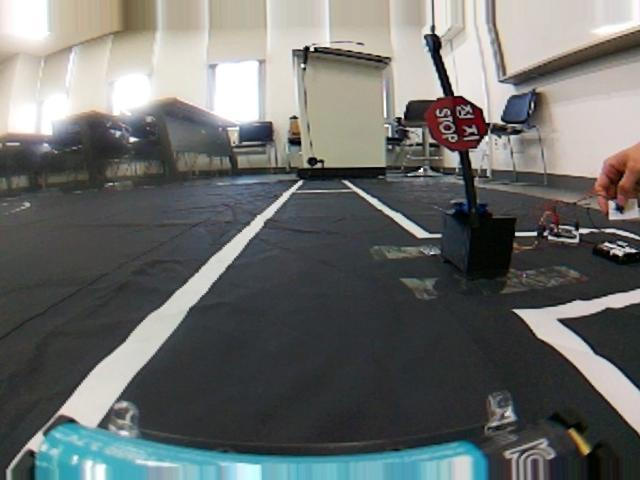sign_stop: (424, 94, 489, 153)
straight: (4, 177, 639, 480)
